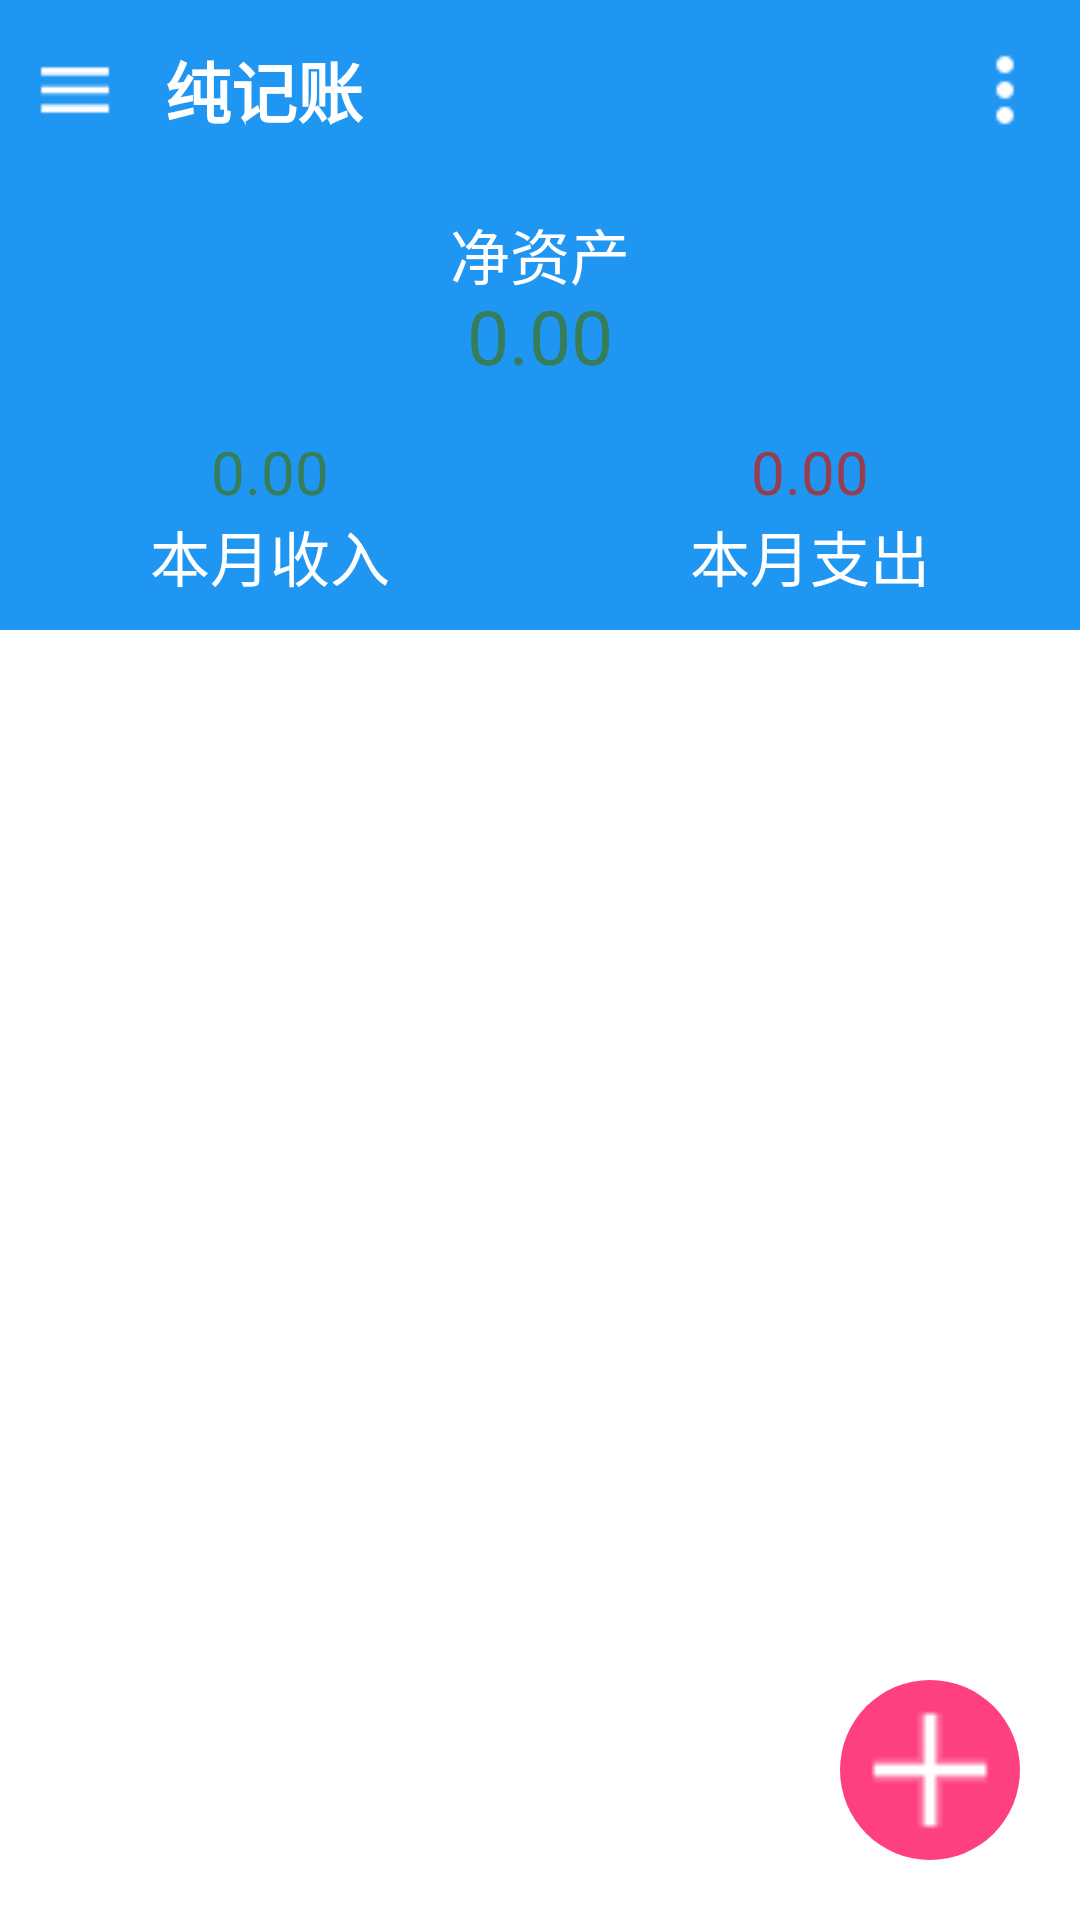

Named icons in this screenshot (1080x1920) and their centers, point (x, y):
add android: point (930, 1770)
more android: point (1005, 90)
